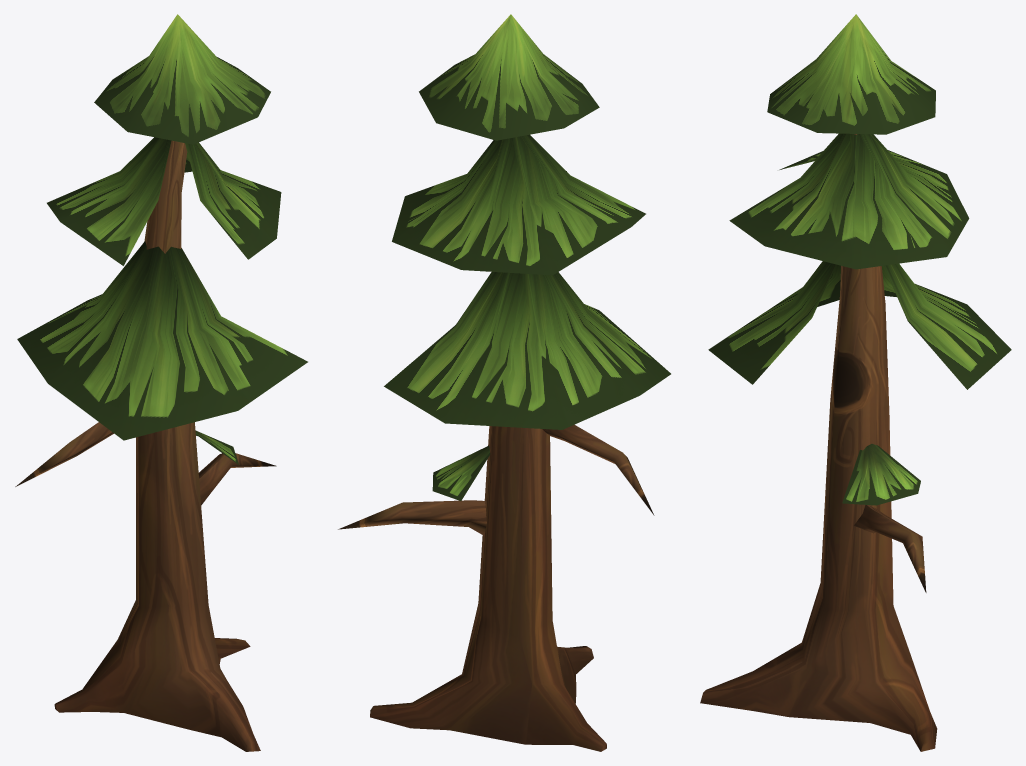
The model's file is pine_tree_08.fbx.
3 renders of one model, left to right at view 1: azimuth 30°, elevation 25°; view 2: azimuth 150°, elevation 25°; view 3: azimuth 270°, elevation 25°, orthographic. The views are drawn at different scales.
Parts seen in each view (by area): view 1: pine_tree_08:Mesh; view 2: pine_tree_08:Mesh; view 3: pine_tree_08:Mesh.
Boxes of the visible parts, left/top/right/bottom form: pine_tree_08:Mesh: left=15, top=14, right=307, bottom=751; pine_tree_08:Mesh: left=338, top=14, right=670, bottom=751; pine_tree_08:Mesh: left=700, top=14, right=1011, bottom=751.
Bounding box in the file's own units: 4.82 × 10.96 × 4.51.
